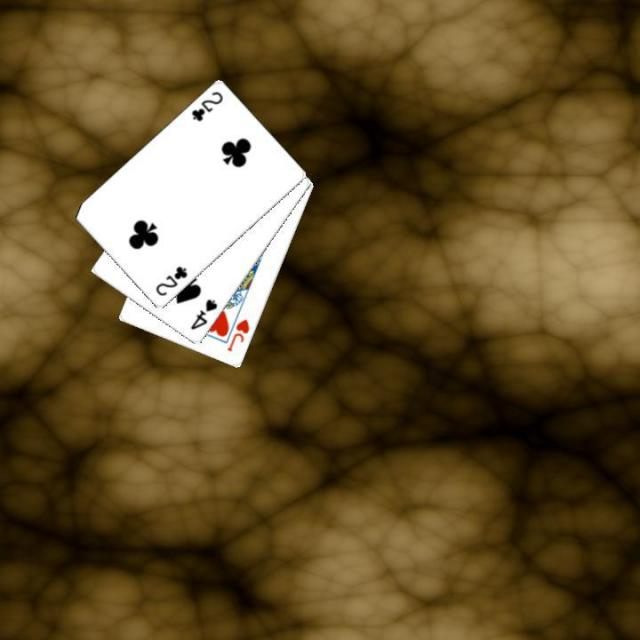2C: (151, 262, 189, 298), (187, 88, 225, 124)
4S: (187, 295, 220, 332)
JH: (223, 316, 252, 354)
